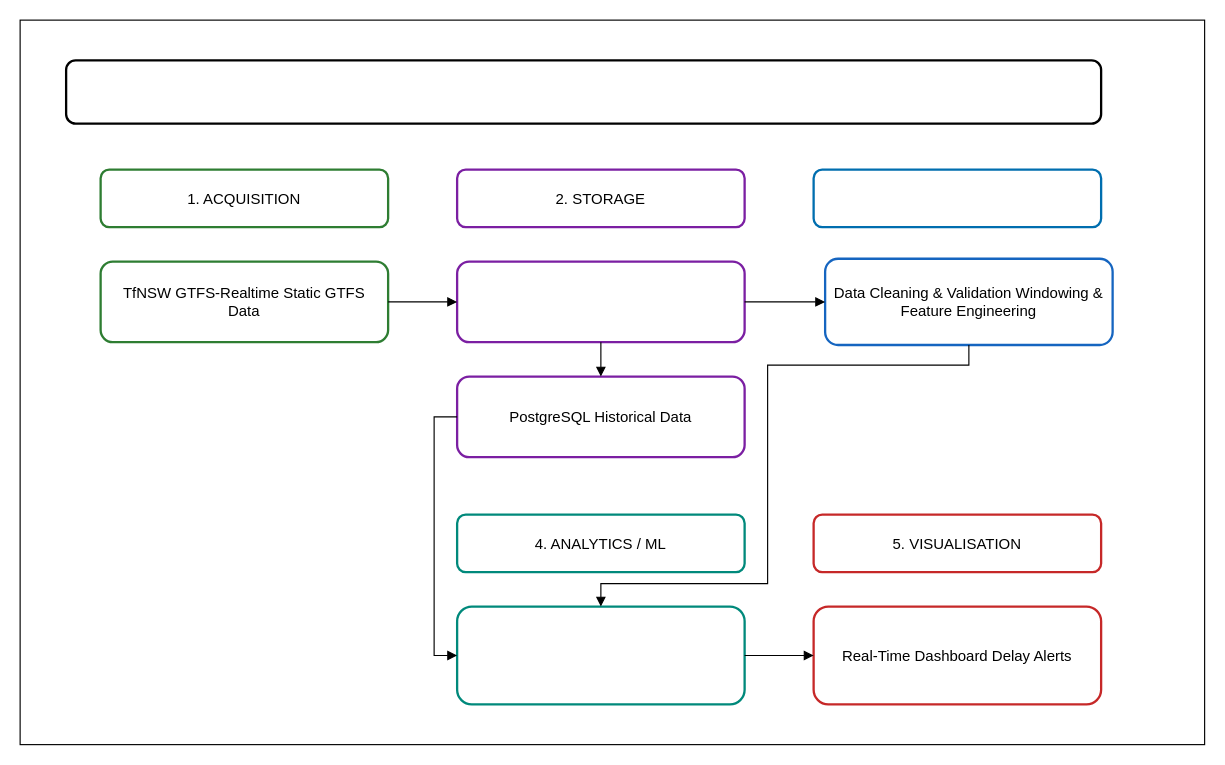
This 1225x765 diagram has some shape labels left out. Here are the shapes that lost their labels. From the top down, the centre of each, then its label:
At pixel 583 91: "TfNSW Real-Time Metro Delay Prediction — Initial Architecture".
At pixel 600 301: "Kafka Real-Time Stream".
At pixel 600 655: "Delay Prediction 5 / 10 / 15 Minutes Model Evaluation".
